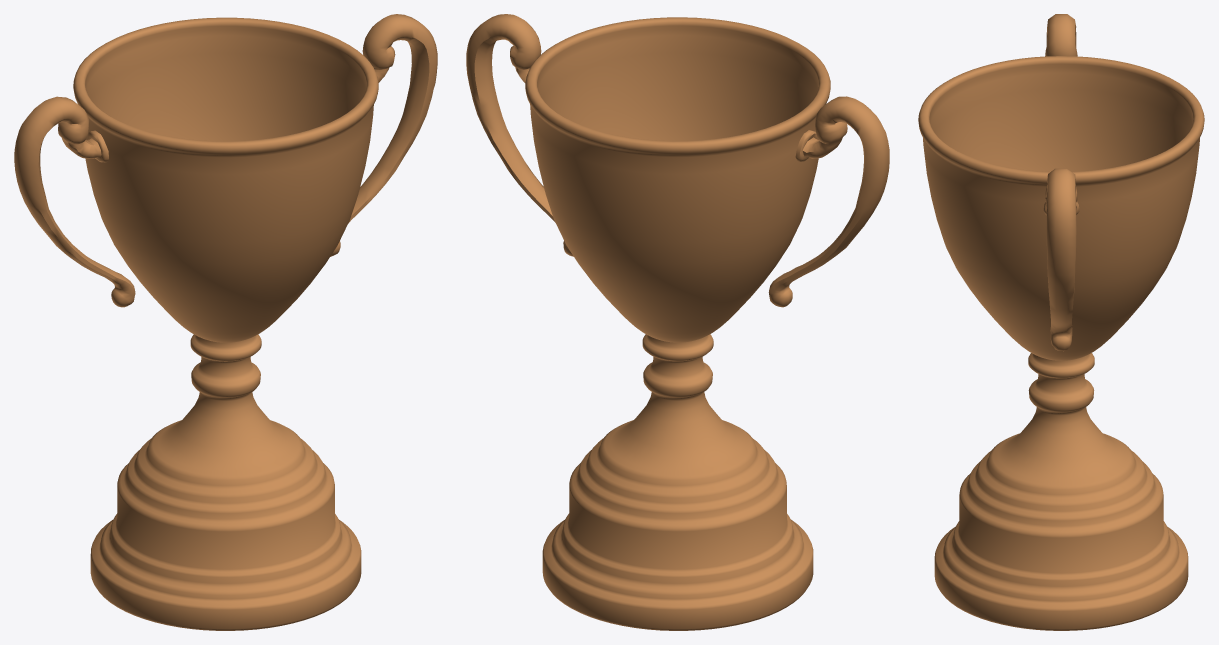
Rendered from bronz_kupa.glb.
The picture shows the model from 3 angles, left to right: view 1: azimuth 30°, elevation 25°; view 2: azimuth 150°, elevation 25°; view 3: azimuth 270°, elevation 25°; orthographic projection. The views are drawn at different scales.
Visible parts, largest first — view 1: bronz_kupa_AO_candidate; view 2: bronz_kupa_AO_candidate; view 3: bronz_kupa_AO_candidate.
Part boxes in pixels (<box>): bronz_kupa_AO_candidate: <box>14,14,437,630</box>; bronz_kupa_AO_candidate: <box>466,14,889,630</box>; bronz_kupa_AO_candidate: <box>918,14,1204,630</box>.
Bounding box in the file's own units: 0.8429 × 1 × 0.5347.
